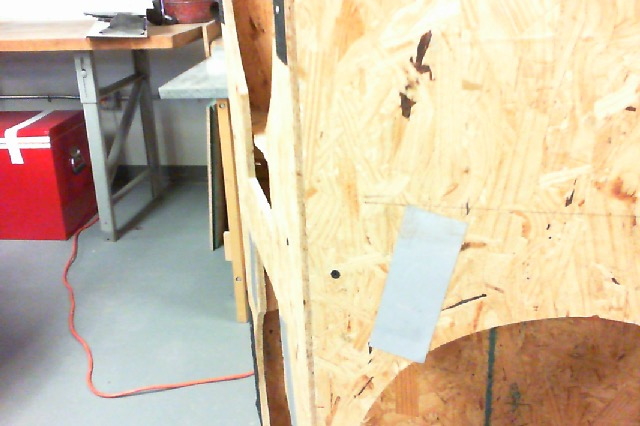Tape: (367, 206, 468, 364), (278, 318, 297, 426), (248, 229, 258, 309)
